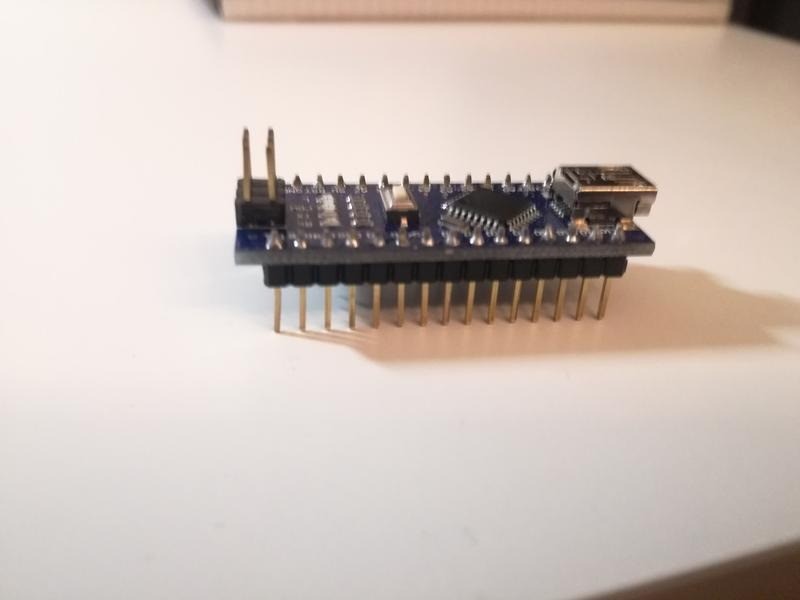Arduino_Nano: (211, 119, 674, 341)
